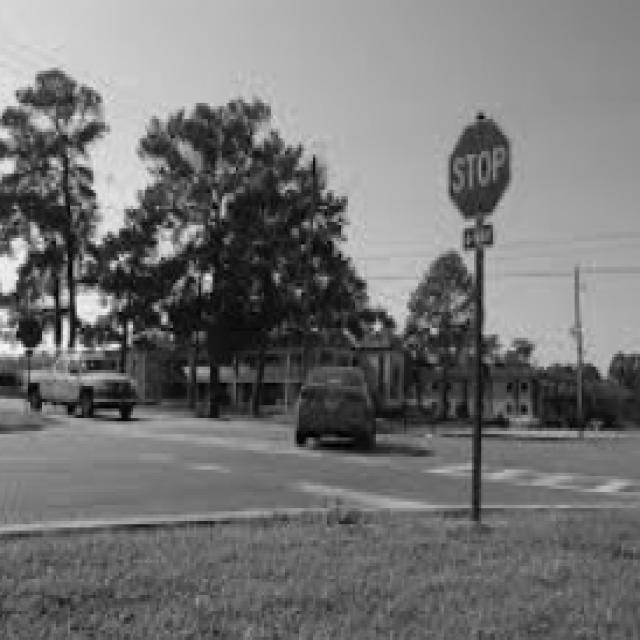Stop-signs: (445, 115, 512, 219)
